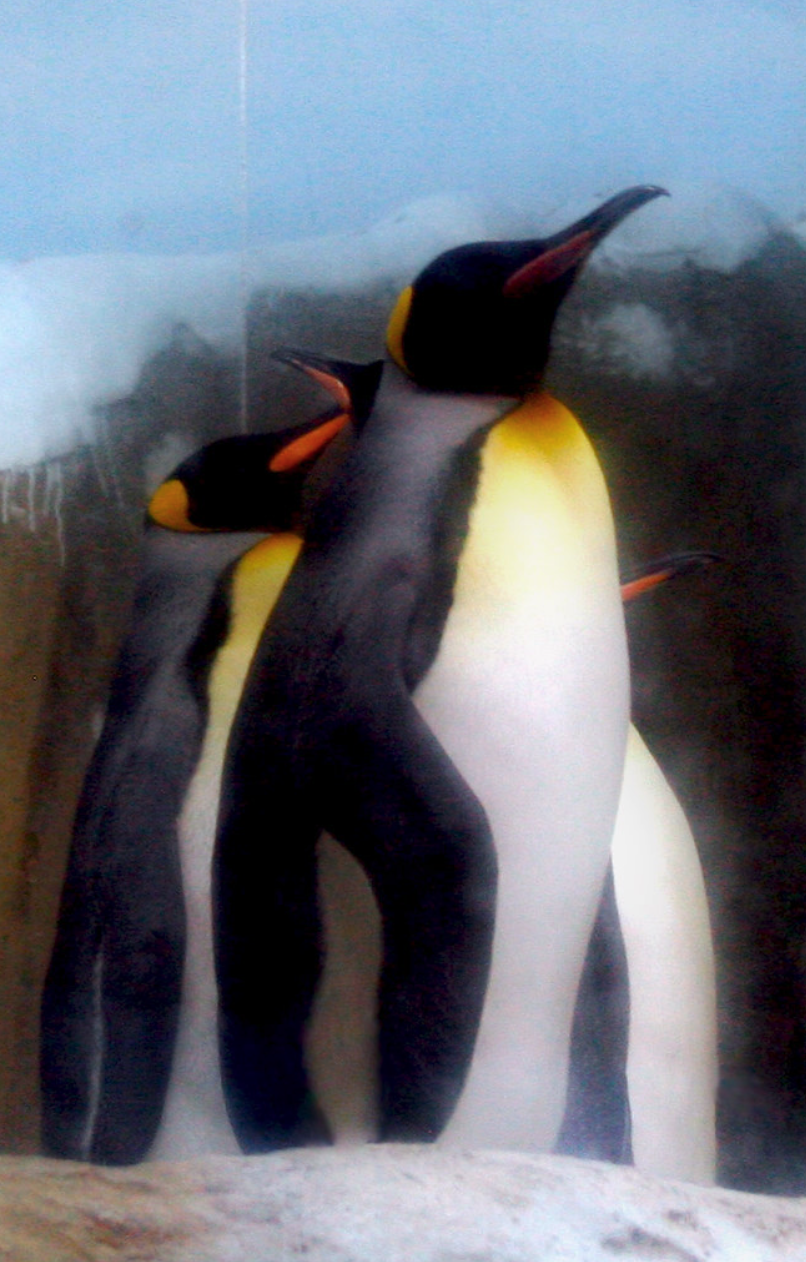penguin: (302, 183, 673, 1164)
